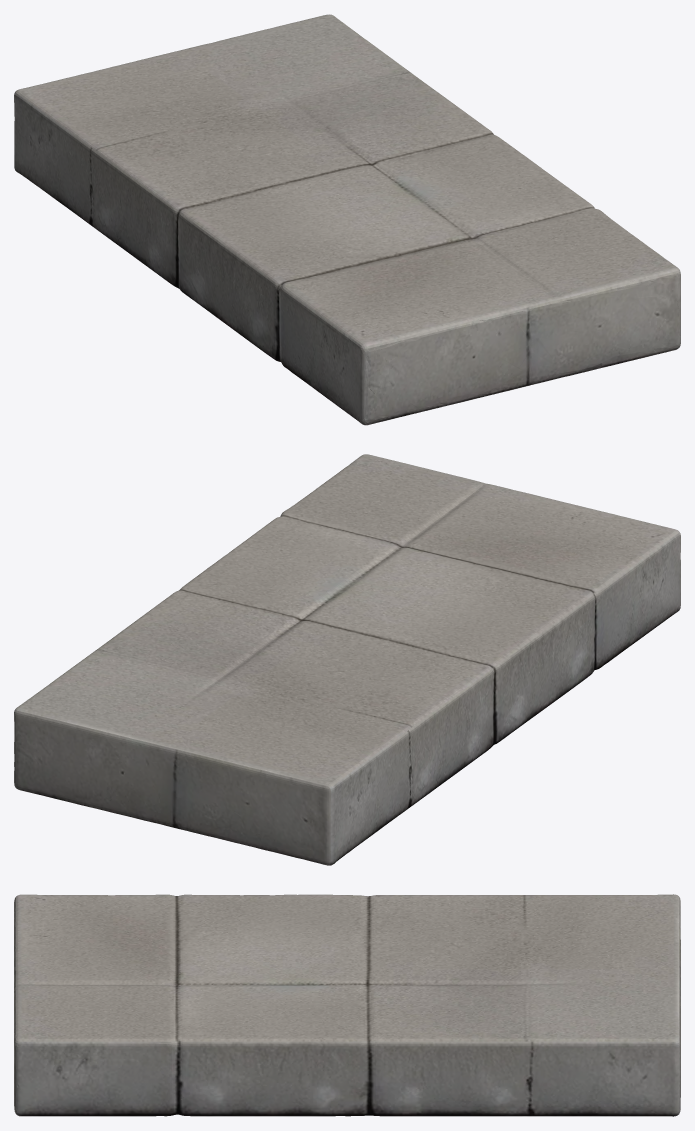
Rendered from approach-stone-3-generated-2026-05-15T00-25-27-710Z.medium.glb.
The picture shows the model from 3 angles, top to bottom: view 1: azimuth 30°, elevation 25°; view 2: azimuth 150°, elevation 25°; view 3: azimuth 270°, elevation 25°; orthographic projection. The views are drawn at different scales.
Visible parts, largest first — view 1: temp_mesh.ply; view 2: temp_mesh.ply; view 3: temp_mesh.ply.
Boxes of the visible parts, left/top/right/bottom form: temp_mesh.ply: left=14, top=14, right=680, bottom=425; temp_mesh.ply: left=14, top=454, right=680, bottom=865; temp_mesh.ply: left=14, top=894, right=680, bottom=1116.
Bounding box in the file's own units: 1.04 × 0.2544 × 1.97.
1 material, 1 textured.
